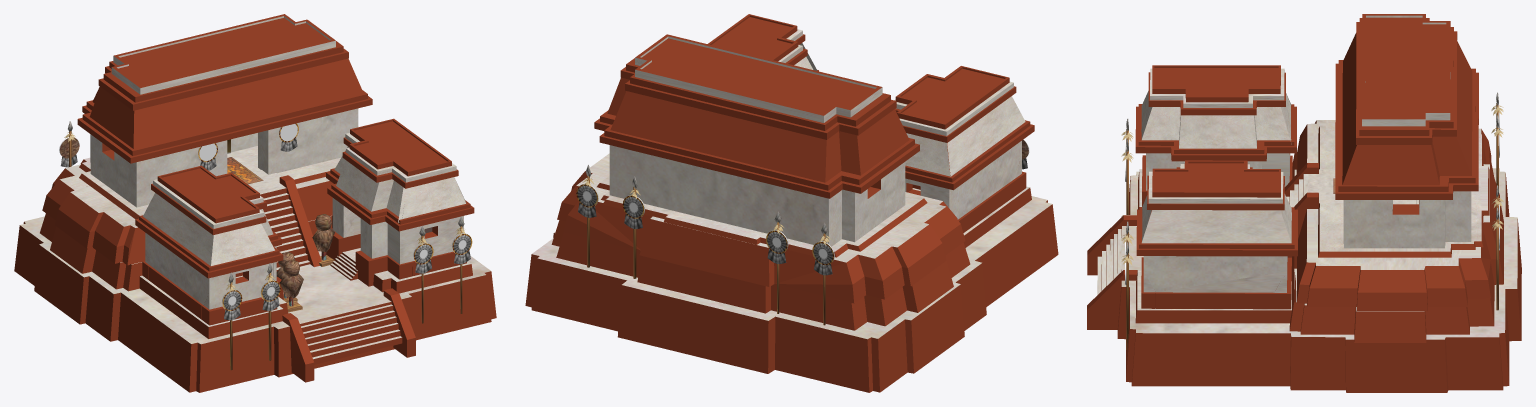
File: barracks.dae
3 views of the same model, side by side, from view 1: azimuth 30°, elevation 25°; view 2: azimuth 150°, elevation 25°; view 3: azimuth 270°, elevation 25° (orthographic). The views are drawn at different scales.
Parts seen in each view (by area): view 1: barracks; view 2: barracks; view 3: barracks.
Part boxes in pixels (<box>): barracks: <box>14,14,496,392</box>; barracks: <box>525,14,1058,392</box>; barracks: <box>1087,14,1521,392</box>.
Size of the model in its own units: 21.77 by 22.41 by 13.47.
